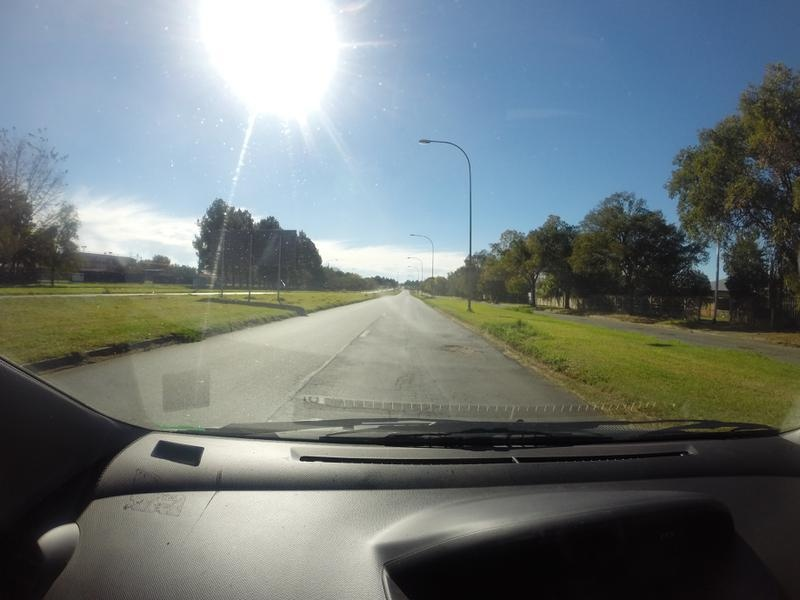pothole: (424, 342, 473, 356)
